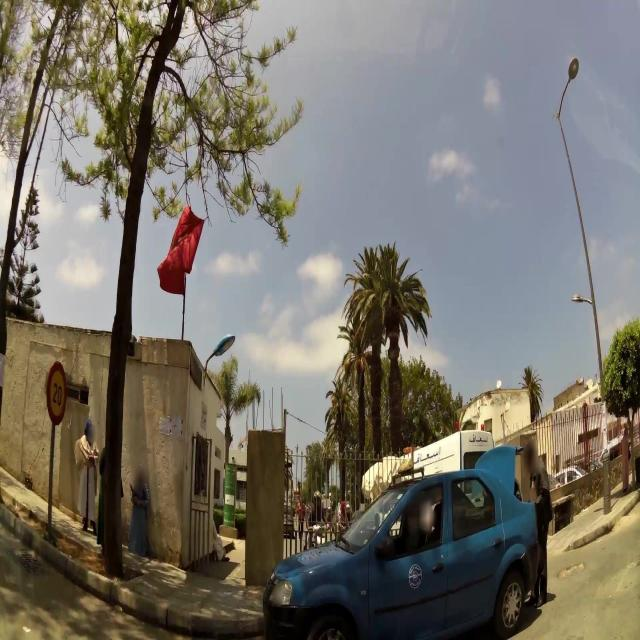car: (263, 470, 540, 638), (305, 518, 325, 543), (608, 432, 622, 460)
